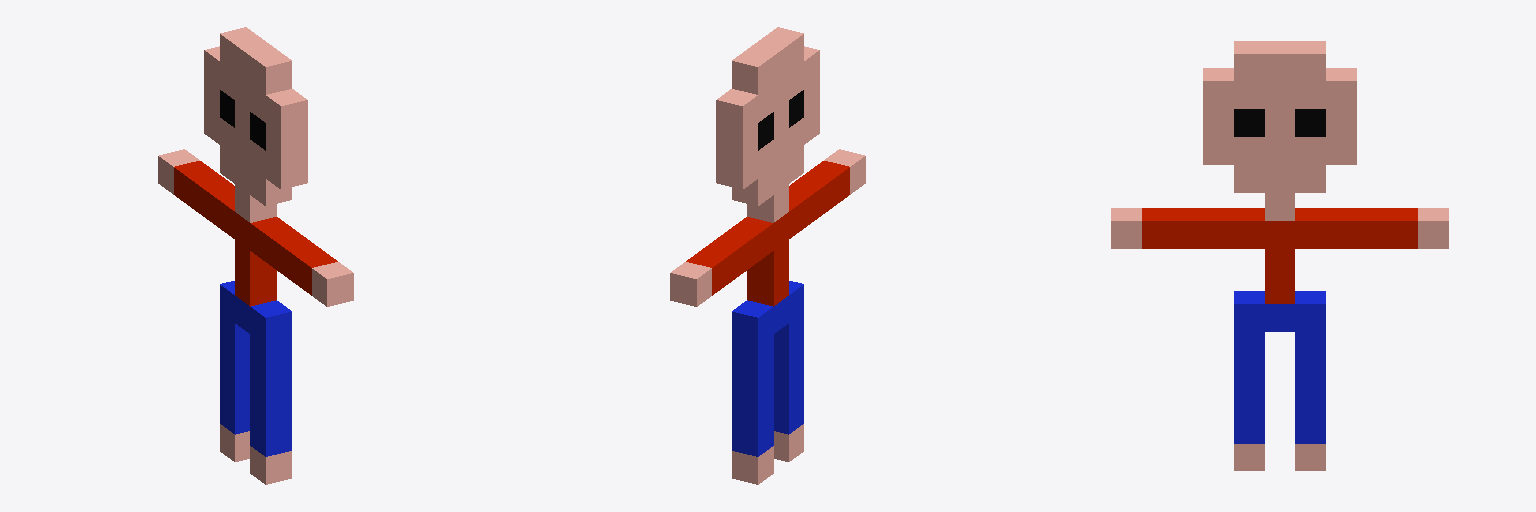
The picture shows the model from 3 angles: view 1: azimuth 30°, elevation 25°; view 2: azimuth 150°, elevation 25°; view 3: azimuth 270°, elevation 25°; orthographic projection.
Visible parts, largest first — view 1: voxel_human; view 2: voxel_human; view 3: voxel_human.
Boxes of the visible parts, x1=… form: voxel_human: x1=158, y1=27, x2=353, y2=484; voxel_human: x1=670, y1=27, x2=865, y2=484; voxel_human: x1=1111, y1=41, x2=1448, y2=470.
Size of the model in its own units: 1 by 15 by 11.
Materials: 1 (1 with a texture image).